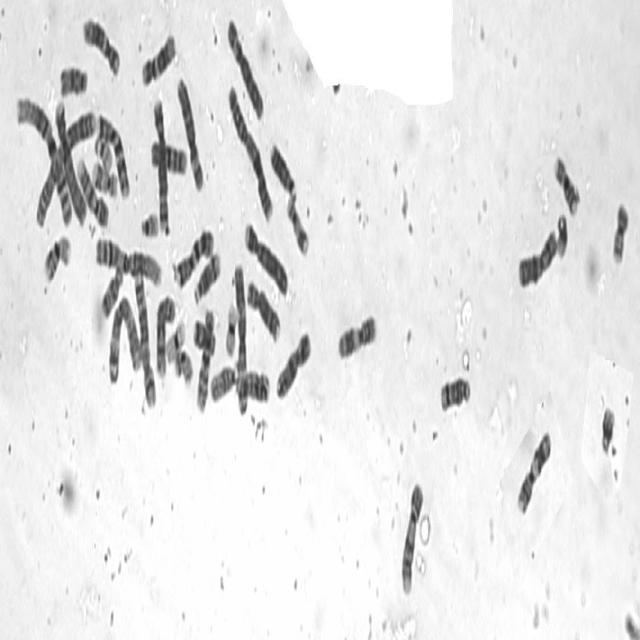A1: (13, 90, 73, 228), (93, 230, 162, 288)
A2: (34, 104, 96, 230), (225, 79, 274, 226)
A3: (106, 291, 142, 385), (232, 258, 248, 416)
B4: (53, 100, 88, 230), (242, 215, 288, 299)
B5: (132, 264, 157, 409), (150, 92, 170, 236)
C10: (193, 303, 215, 414), (148, 135, 188, 178)
C11: (515, 422, 552, 517), (335, 308, 377, 362)
C12: (81, 11, 122, 79), (139, 29, 176, 88)
C6: (224, 11, 265, 123), (175, 70, 205, 194)
C7: (93, 110, 131, 200), (172, 224, 215, 288)
C8: (244, 273, 282, 345), (154, 290, 176, 379)
C9: (399, 476, 424, 598), (75, 152, 109, 230)
D13: (268, 136, 297, 202), (234, 370, 271, 406)
D14: (192, 245, 222, 308), (438, 371, 471, 414)
D15: (209, 362, 239, 406), (58, 64, 88, 100)
E16: (551, 149, 581, 218), (41, 230, 71, 284)
E17: (284, 192, 310, 259), (90, 159, 118, 200)
E18: (100, 259, 124, 320), (191, 313, 215, 357)
F19: (164, 313, 186, 364), (224, 298, 238, 359)
F20: (611, 196, 633, 270), (173, 343, 194, 389)
G21: (600, 405, 615, 458), (554, 208, 568, 261)
G22: (93, 127, 113, 174), (138, 206, 160, 240)
X: (274, 324, 312, 403), (516, 222, 558, 291)
